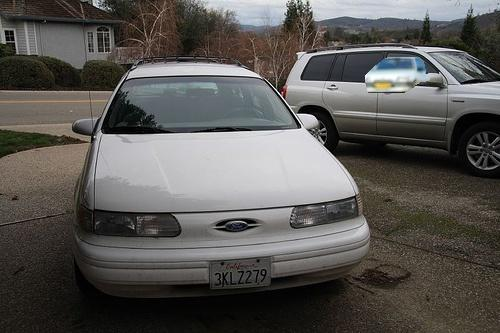tampered: (366, 58, 430, 93)
